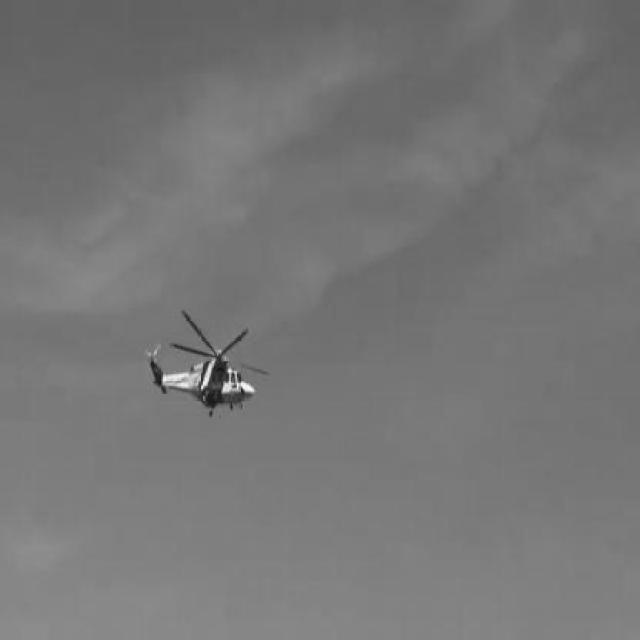helikopter: (148, 316, 268, 418)
